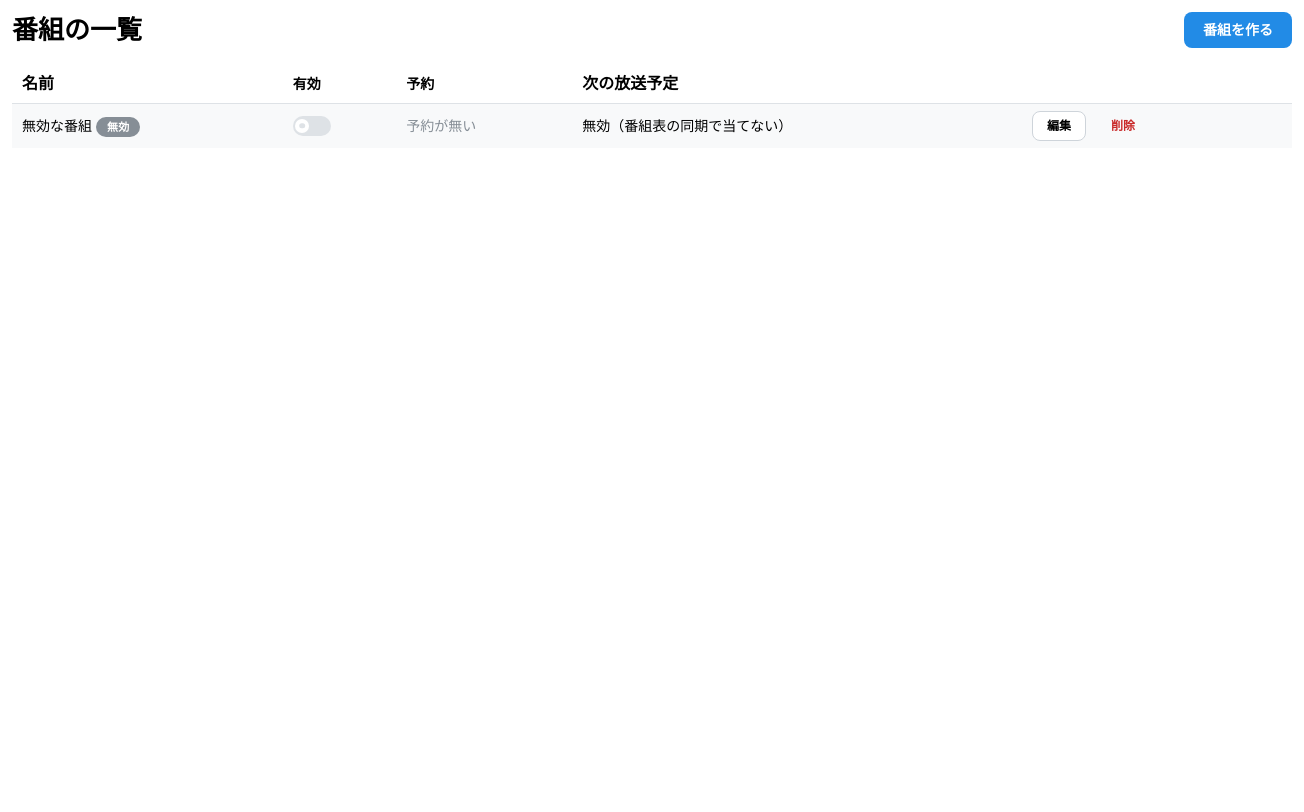
Test: ShowsPage › 有効／無効を切り替える
Click the switch named "無効な番組 を有効にする" at (312, 126), box [293,116,331,136]
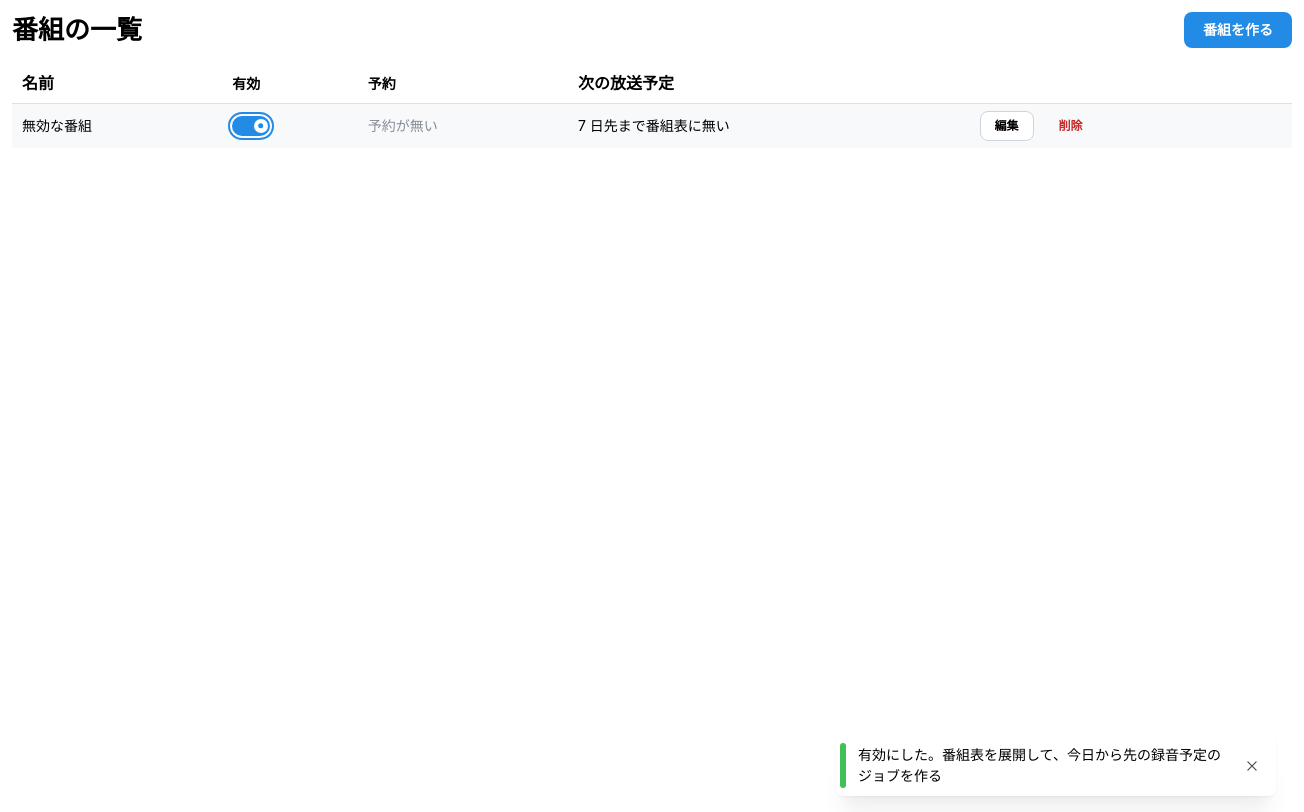
Expected: the switch is checked, [232,116,270,136]
Expected: the text "有効にした。番組表を展開して、今日から先の録音予定のジョブを作る" is shown, [858,745,1228,786]
